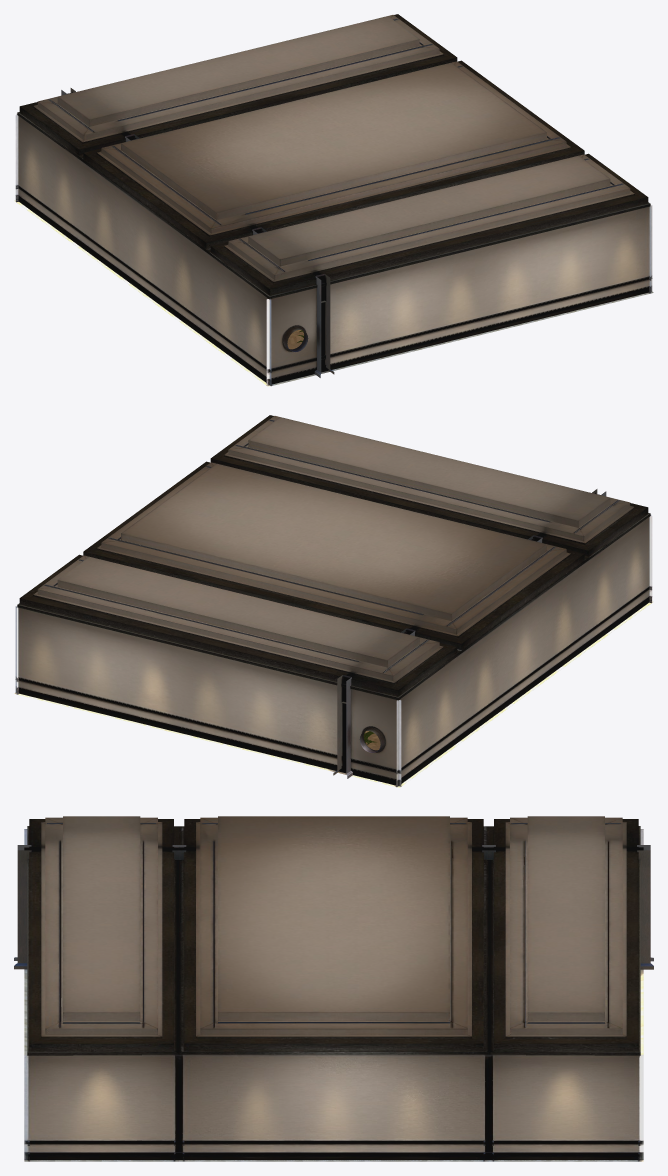
Rendered from room2.glb.
3 renders of one model, top to bottom at view 1: azimuth 30°, elevation 25°; view 2: azimuth 150°, elevation 25°; view 3: azimuth 270°, elevation 25°, orthographic. The views are drawn at different scales.
Visible parts, largest first — view 1: Seling_FB_Baked, Wall02_FB_Baked, SpotlightRay_FB_Baked, FloorFB_Baked, Pillar_FB_Baked; view 2: Seling_FB_Baked, Wall02_FB_Baked, SpotlightRay_FB_Baked, FloorFB_Baked, Pillar_FB_Baked; view 3: Seling_FB_Baked, Wall02_FB_Baked, Pillar_FB_Baked, SpotlightRay_FB_Baked, FloorFB_Baked.
Part boxes in pixels (x1,y1,x2,y2): Seling_FB_Baked: (17, 14, 650, 299); Wall02_FB_Baked: (15, 114, 652, 386); SpotlightRay_FB_Baked: (48, 18, 622, 271); FloorFB_Baked: (14, 200, 653, 386); Pillar_FB_Baked: (61, 88, 334, 377); Seling_FB_Baked: (17, 415, 650, 700); Wall02_FB_Baked: (15, 515, 652, 787); SpotlightRay_FB_Baked: (44, 419, 619, 672); FloorFB_Baked: (14, 601, 653, 787); Pillar_FB_Baked: (333, 489, 606, 778); Seling_FB_Baked: (27, 816, 640, 1055); Wall02_FB_Baked: (24, 829, 643, 1161); Pillar_FB_Baked: (14, 845, 653, 969); SpotlightRay_FB_Baked: (47, 823, 620, 1026); FloorFB_Baked: (24, 969, 643, 1161).
Size of the model in its own units: 28 by 7.57 by 33.07.
Materials: 7 (7 with a texture image).
